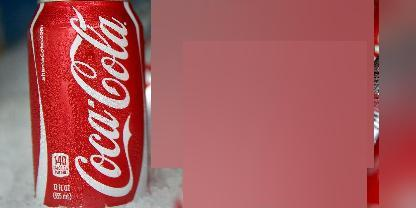Can: (26, 0, 148, 208)
